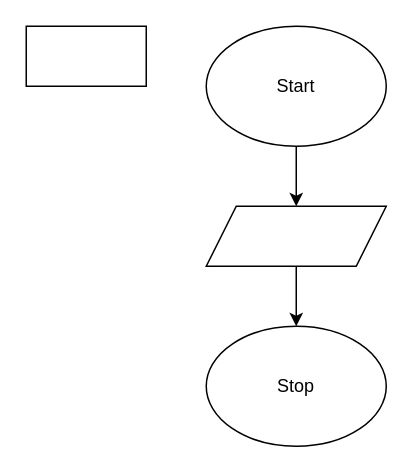
The diagram is 413 pixels wide and 473 high, and some of its shapes have lost their labels. The centre of each missing label's shape, as x and y in pixels:
print (Ding Ding!): point 295,235
ringBell: point 85,55
